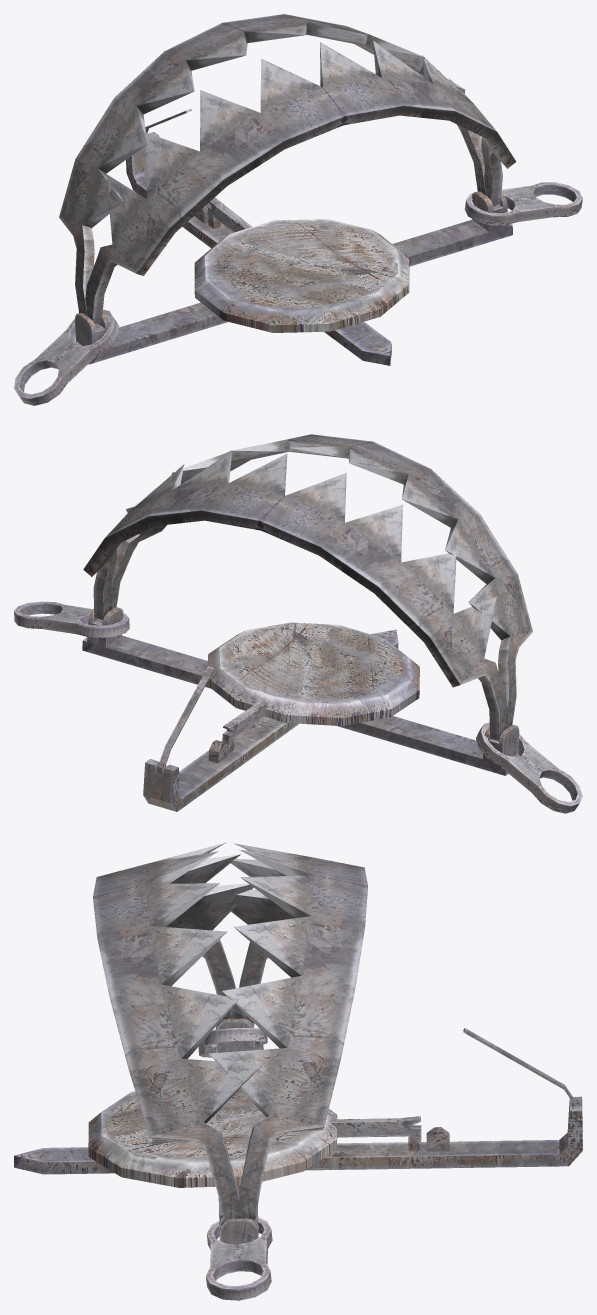
3 renders of one model, top to bottom at view 1: azimuth 30°, elevation 25°; view 2: azimuth 150°, elevation 25°; view 3: azimuth 270°, elevation 25°, orthographic. The views are drawn at different scales.
Parts seen in each view (by area): view 1: Trap_LeftSide, Trap_Center, Trap_RightSide, Trap_Cross, Trap_1, Trap_4; view 2: Trap_RightSide, Trap_Center, Trap_LeftSide, Trap_Cross, Trap_1, Trap_4, Trap_3; view 3: Trap_LeftSide, Trap_RightSide, Trap_Center, Trap_Cross, Trap_1, Trap_4, Trap_3.
Part boxes in pixels (<box>): Trap_LeftSide: <box>85,40,516,324</box>; Trap_Center: <box>194,219,409,332</box>; Trap_RightSide: <box>59,14,485,315</box>; Trap_Cross: <box>74,132,512,365</box>; Trap_1: <box>14,182,582,405</box>; Trap_4: <box>207,197,252,232</box>; Trap_RightSide: <box>83,451,507,740</box>; Trap_Center: <box>207,622,419,725</box>; Trap_LeftSide: <box>111,434,532,727</box>; Trap_Cross: <box>82,607,519,811</box>; Trap_1: <box>14,601,582,813</box>; Trap_4: <box>222,700,267,753</box>; Trap_3: <box>159,666,213,770</box>; Trap_LeftSide: <box>93,842,262,1220</box>; Trap_RightSide: <box>208,843,367,1220</box>; Trap_Center: <box>88,1089,337,1187</box>; Trap_Cross: <box>14,1018,582,1244</box>; Trap_1: <box>198,1027,272,1300</box>; Trap_4: <box>330,1116,421,1151</box>; Trap_3: <box>463,1028,577,1106</box>.
Bounding box in the file's own units: 148 × 73.86 × 111.
1 material, 1 textured.
